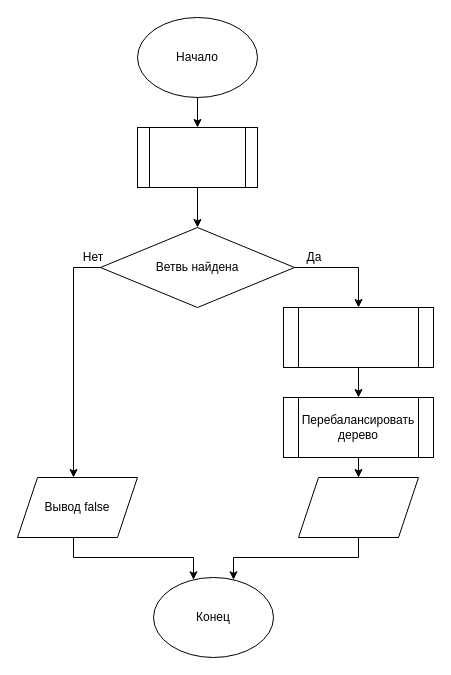
The diagram is 451 pixels wide and 675 high, and some of its shapes have lost their labels. The centre of each missing label's shape, as x and y in pixels:
"Вывод true" belongs at (x=358, y=507).
"Найти эквивалентную ветвь" belongs at (x=358, y=337).
"Поиск ветви" belongs at (x=197, y=157).
